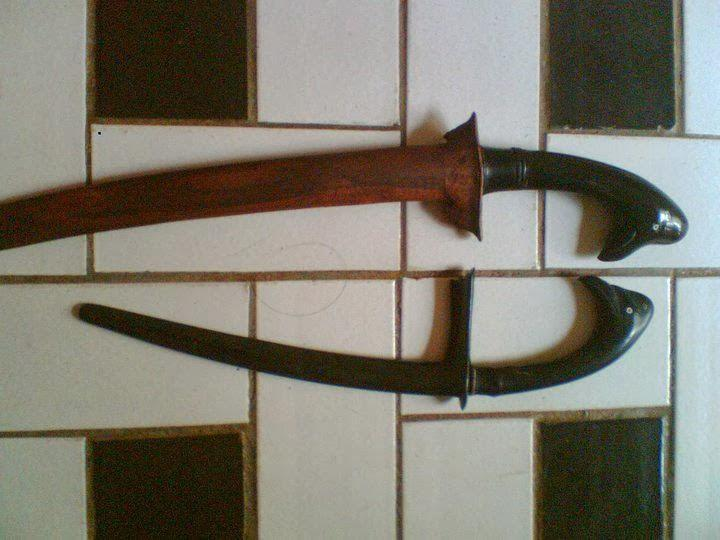espada: (2, 115, 682, 263), (81, 258, 665, 408)
